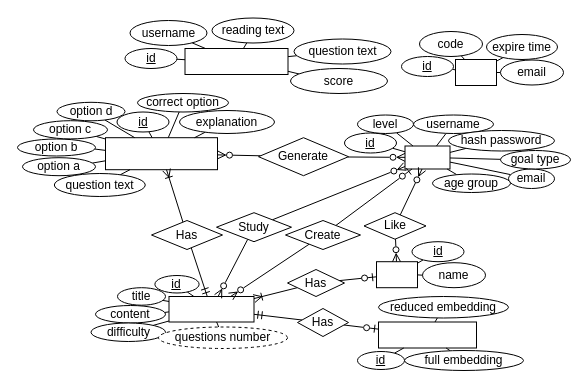
Image size: 588x388. Some labels were removed from this diagram. Each missing label, with the centre of its shape:
"ItemEmbedding" goes at (427,334).
"ObjectiveQuestion" goes at (161,153).
"OTP" goes at (475,72).
"Reading" goes at (211,309).
"Topic" goes at (397,274).
"User" goes at (427,157).
"user feedback" goes at (236,61).
